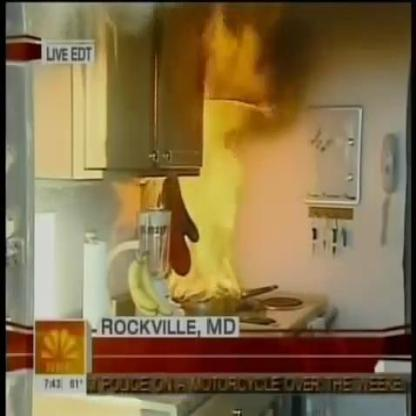fire: (174, 7, 278, 301)
